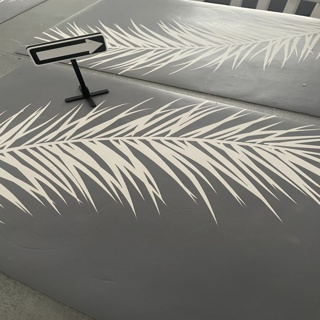sign_oneway_right: (20, 39, 106, 64)
